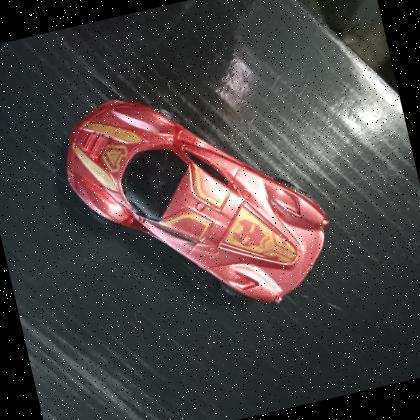Car: (44, 48, 351, 351)
